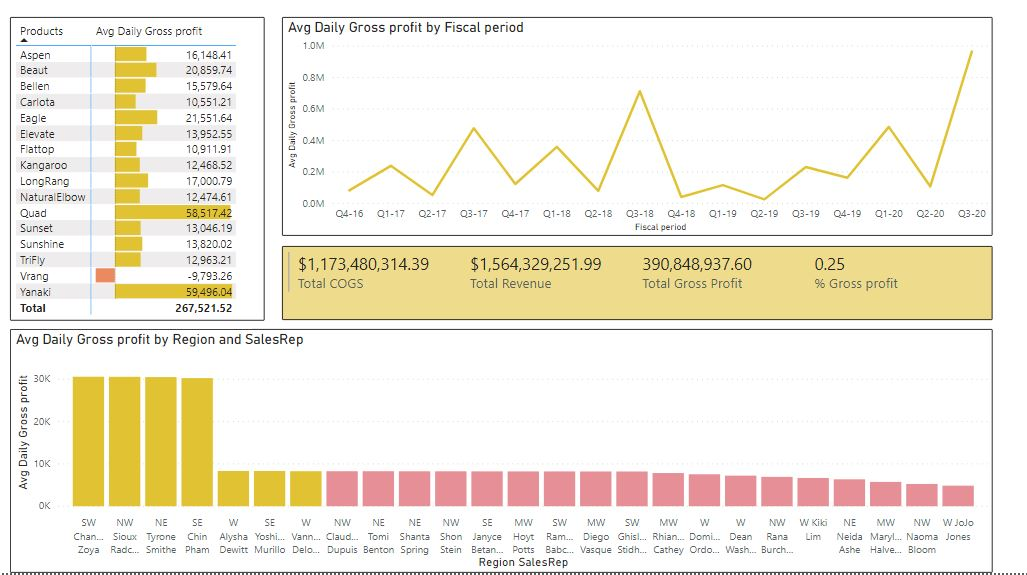

This screenshot's page, from the dashboard's own definition file:
{"tool":"powerbi","page":{"name":"Avg Daily Gross Profit","canvas":[1280,720],"ordinal":0},"visuals":[{"type":"pivotTable","fields":{"Rows":["dProduct.Products"],"Values":["dProduct.Avg Daily Gross profit"]},"box":[15.9,51.1,305.5,364.6],"z":0},{"type":"clusteredColumnChart","fields":{"Category":["dSalesReps.Region Hierarchy.Region","dSalesReps.Region Hierarchy.SalesRep"],"Y":["dProduct.Avg Daily Gross profit"]},"box":[15.9,427,1181.2,293],"z":1000},{"type":"lineChart","fields":{"Category":["dtDate.Fiscal period"],"Y":["dProduct.Avg Daily Gross profit"]},"box":[343,51.1,854.1,263.5],"z":2000},{"type":"multiRowCard","fields":{"Values":["dtDate.Total COGS","dtDate.Total Revenue","dProduct.Total Gross Profit","dProduct.% Gross profit"]},"box":[343,327.1,854.1,88.6],"z":3000}]}

Visuals, with their boxes in screenshot pixels (x1, y1, x2, y2), scaled from the page's 1280x720 canvas onto the 1027x575 screenshot:
pivotTable - dProduct.Products x dProduct.Avg Daily Gross profit: 13,41,258,332
clusteredColumnChart - dSalesReps.Region Hierarchy.Region x dSalesReps.Region Hierarchy.SalesRep: 13,341,960,574
lineChart - dtDate.Fiscal period x dProduct.Avg Daily Gross profit: 275,41,960,251
multiRowCard - dtDate.Total COGS x dtDate.Total Revenue: 275,261,960,332
